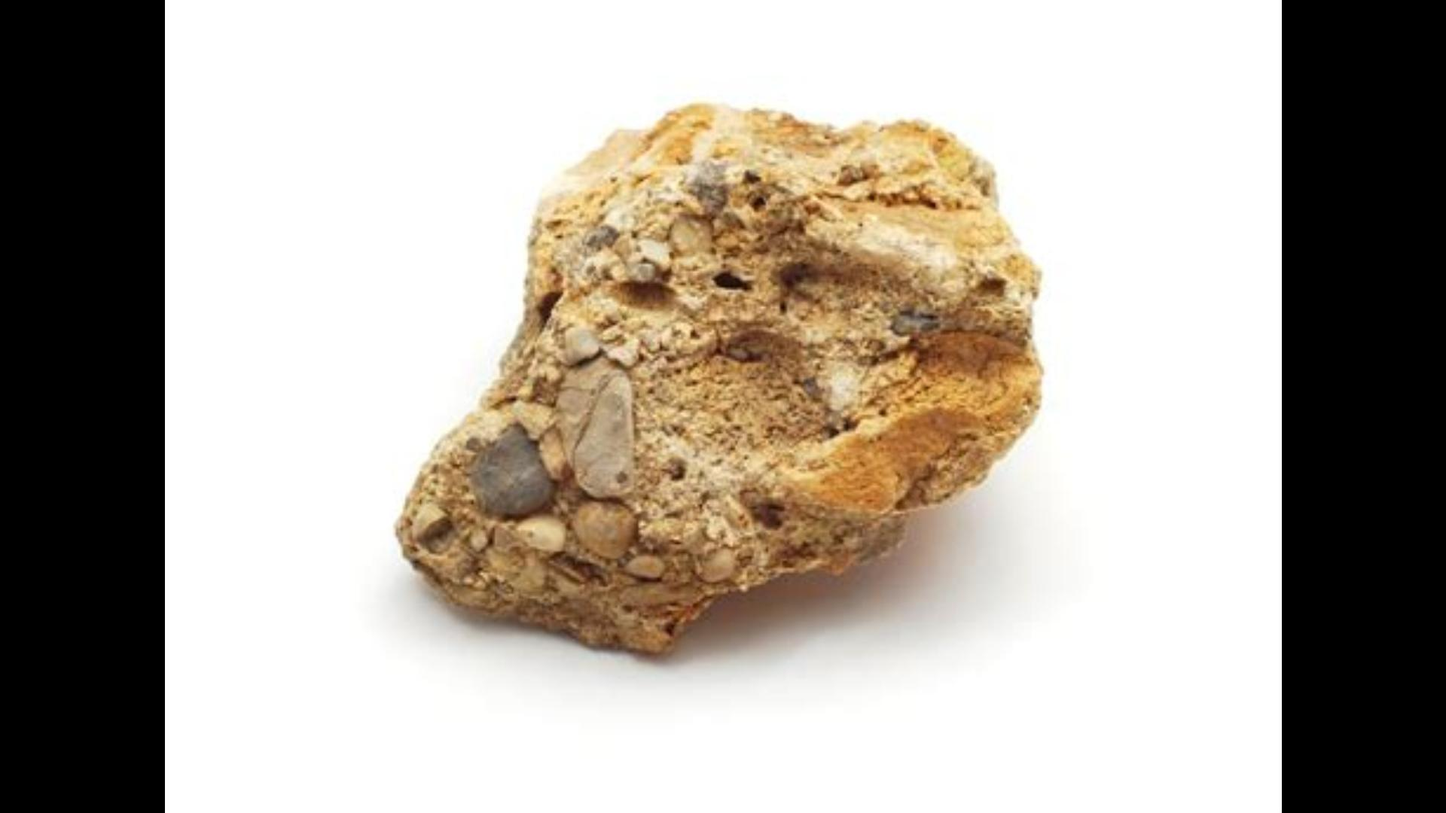rock: (405, 106, 1036, 653)
